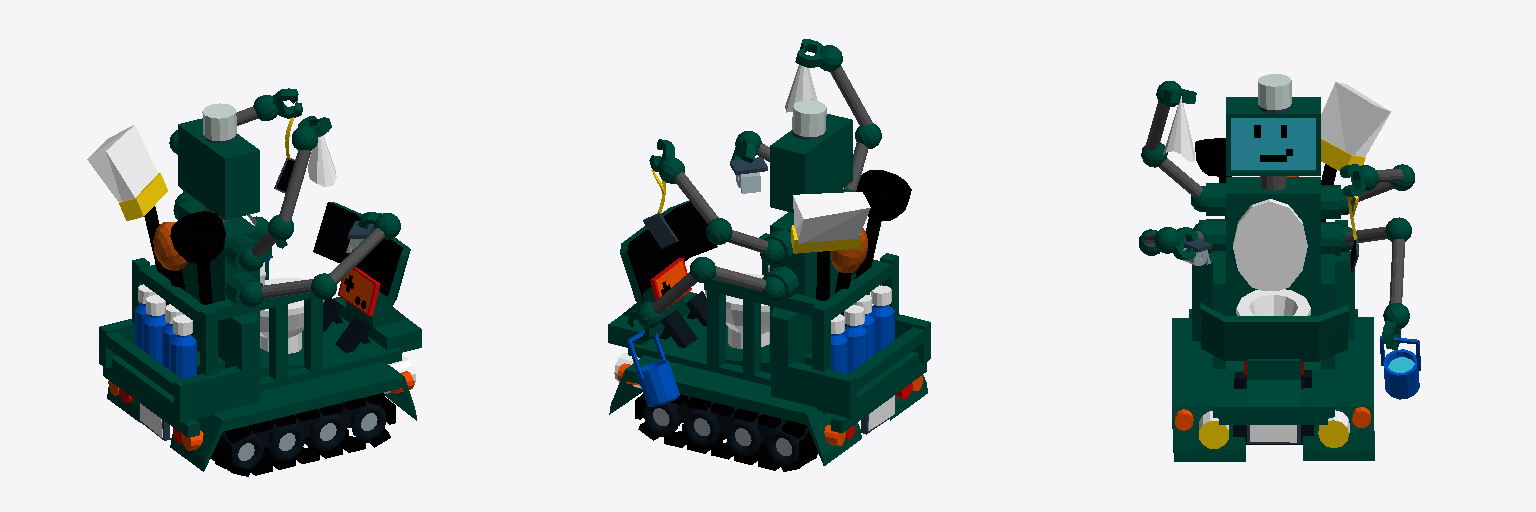
3 views of the same model, side by side, from view 1: azimuth 30°, elevation 25°; view 2: azimuth 150°, elevation 25°; view 3: azimuth 270°, elevation 25° (orthographic).
Visible parts, largest first — view 1: group[number redacted], group[number redacted], group[number redacted], group[number redacted], group[number redacted], group[number redacted], group[number redacted], group[number redacted], group[number redacted], group[number redacted], group[number redacted], group[number redacted] (+28 smaller); view 2: group[number redacted], group[number redacted], group[number redacted], group[number redacted], group[number redacted], group[number redacted], group[number redacted], group[number redacted], group[number redacted], group[number redacted], group[number redacted], group[number redacted] (+28 smaller); view 3: group[number redacted], group[number redacted], group[number redacted], group[number redacted], group[number redacted], group[number redacted], group[number redacted], group[number redacted], group[number redacted], group[number redacted], group[number redacted], group[number redacted] (+21 smaller).
Part boxes in pixels (x1,y1,x2,y2): group[number redacted]: (170,362,416,471); group[number redacted]: (178,118,259,219); group[number redacted]: (313,202,410,305); group[number redacted]: (87,125,157,202); group[number redacted]: (174,366,241,422); group[number redacted]: (178,200,259,360); group[number redacted]: (225,312,259,405); group[number redacted]: (260,322,384,391); group[number redacted]: (170,211,225,263); group[number redacted]: (104,332,180,396); group[number redacted]: (333,297,421,352); group[number redacted]: (269,296,287,379); group[number redacted]: (609,355,861,465); group[number redacted]: (770,114,852,212); group[number redacted]: (620,201,717,301); group[number redacted]: (793,192,870,244); group[number redacted]: (785,362,856,417); group[number redacted]: (771,307,804,399); group[number redacted]: (646,318,770,385); group[number redacted]: (856,170,911,220); group[number redacted]: (770,212,852,372); group[number redacted]: (848,327,925,392); group[number redacted]: (822,260,896,319); group[number redacted]: (636,360,679,406); group[number redacted]: (1226,97,1320,175); group[number redacted]: (1200,303,1348,361); group[number redacted]: (1226,177,1320,315); group[number redacted]: (1233,199,1307,290); group[number redacted]: (1172,318,1245,461); group[number redacted]: (1302,317,1374,460); group[number redacted]: (1321,82,1390,156); group[number redacted]: (1219,389,1327,424); group[number redacted]: (1236,289,1310,315); group[number redacted]: (1383,349,1419,399); group[number redacted]: (1247,380,1300,406); group[number redacted]: (1335,251,1354,339).
Size of the model in its own units: 1.1 by 1.34 by 0.9922.